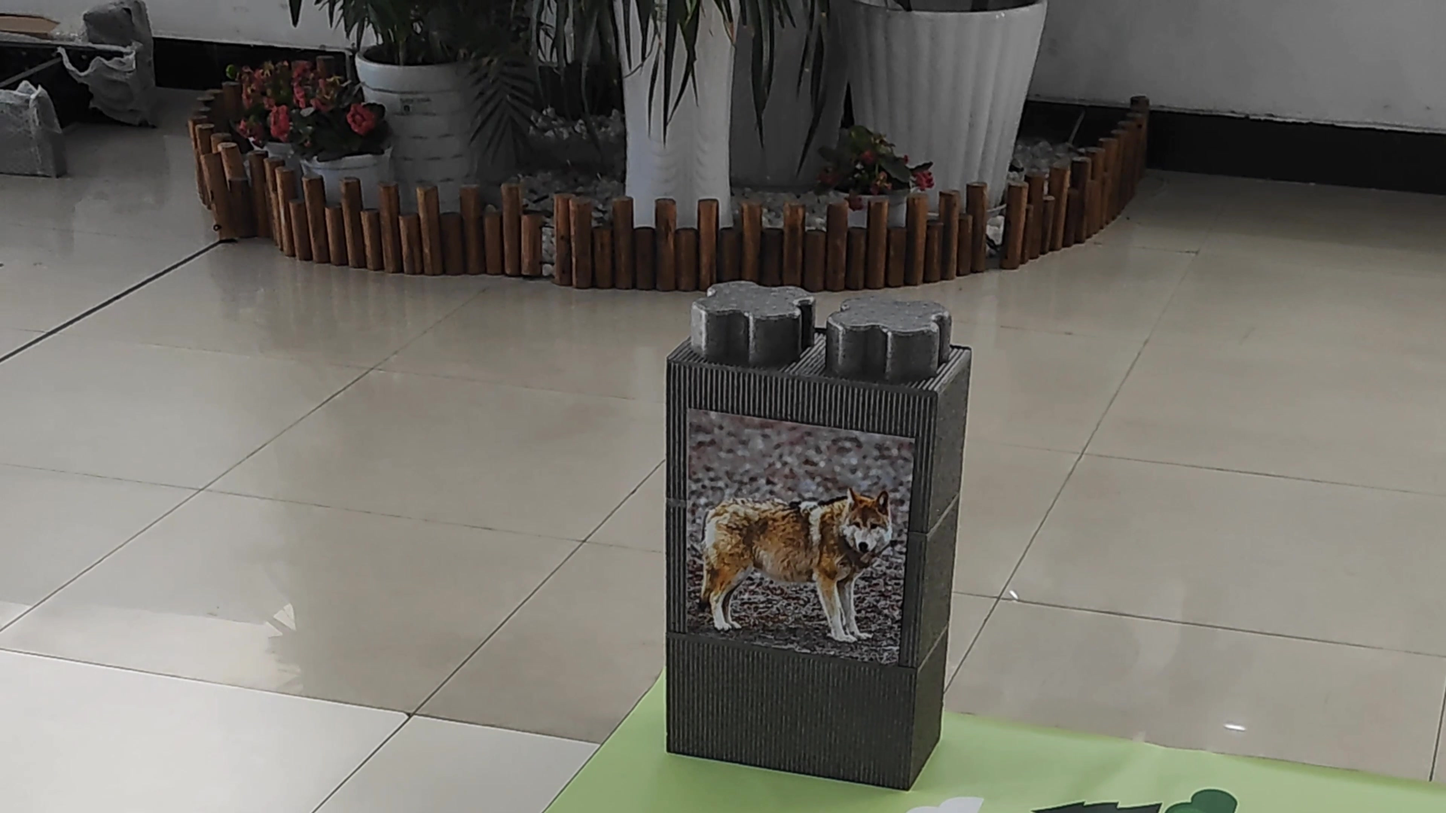wolf: (687, 454, 898, 668)
